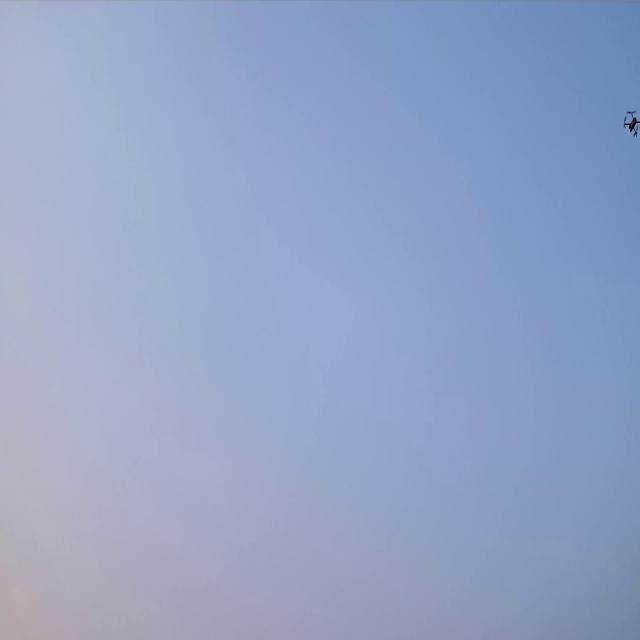UAV: (622, 108, 640, 139)
